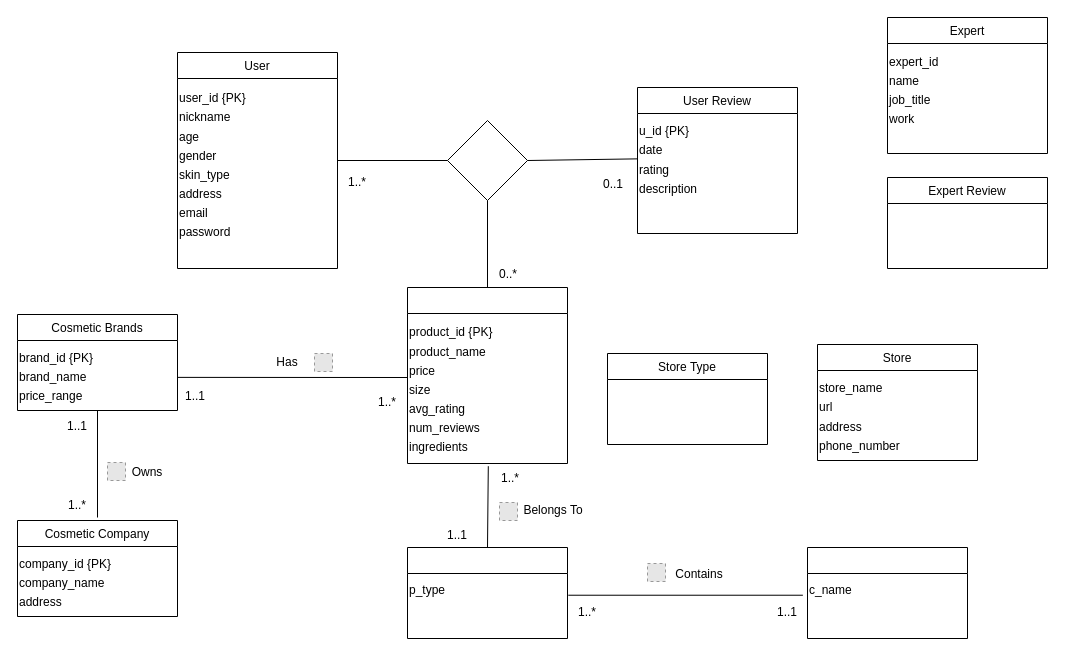
Some shapes in this 1065 by 656 pixel diagram are drawn without their labels. Grey dashed boxes stand in for pictures. The box of each missing label's shape, as (x1, y1, x2, y2) in pixels:
Cosmetic Category: (806, 546, 968, 638)
Cosmetic Product: (406, 286, 568, 464)
Cosmetic Product Type: (406, 546, 568, 638)
Writes: (446, 120, 528, 200)
